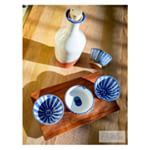cups: (30, 92, 65, 127), (63, 83, 95, 116), (86, 43, 115, 71)
